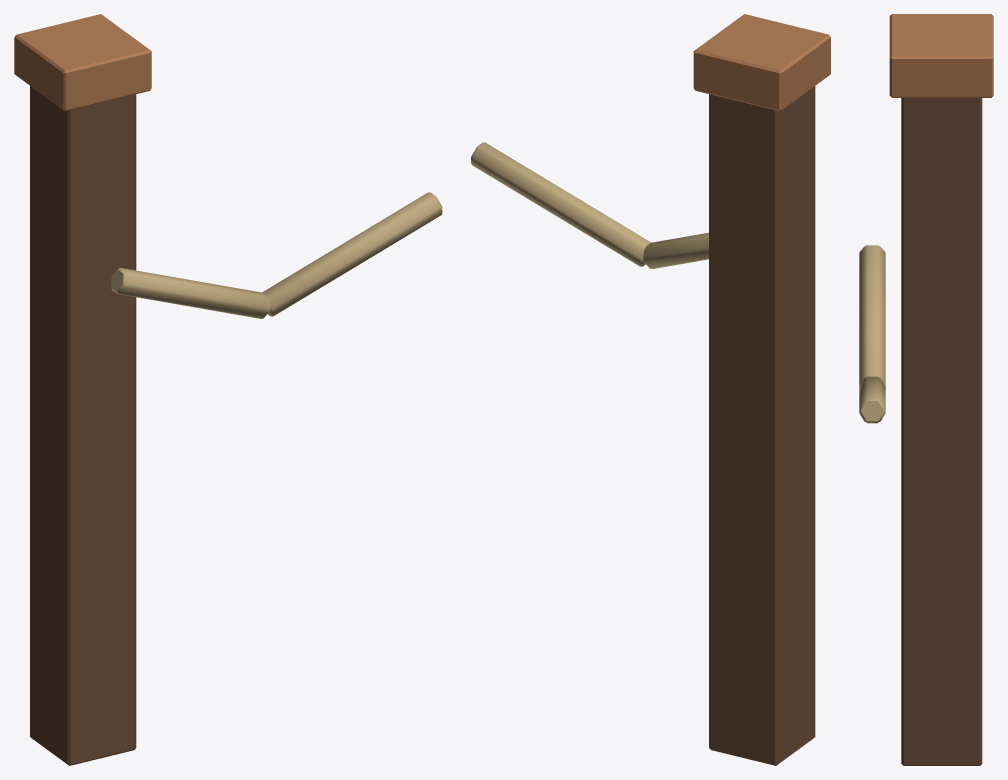
The model's file is wood_post_rope_01.glb.
The picture shows the model from 3 angles, left to right: view 1: azimuth 30°, elevation 25°; view 2: azimuth 150°, elevation 25°; view 3: azimuth 270°, elevation 25°; orthographic projection.
Parts seen in each view (by area): view 1: wood_post_rope_01; view 2: wood_post_rope_01; view 3: wood_post_rope_01.
Part boxes in pixels (x1,y1,x2,y2): wood_post_rope_01: (14, 14, 442, 765); wood_post_rope_01: (471, 14, 830, 765); wood_post_rope_01: (859, 14, 993, 765).
Bounding box in the file's own units: 0.7457 × 1.37 × 0.233.
